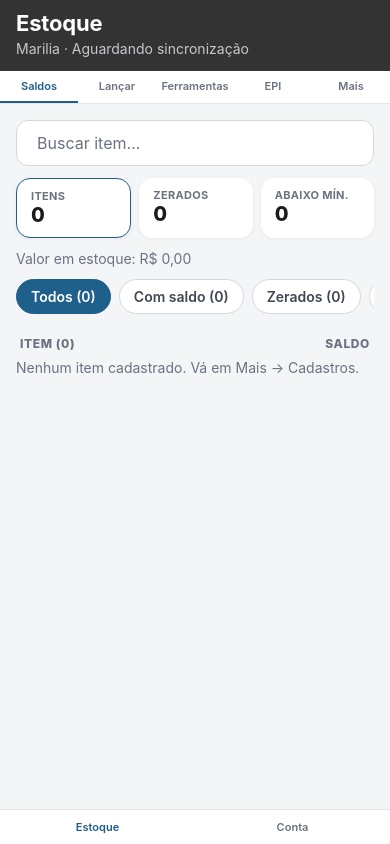
EPI (aba própria) › Lançar não tem mais a opção EPI
Click the element with test id "aba-lancar". click: point(117, 86)
box: left=99, top=79, right=135, bottom=93
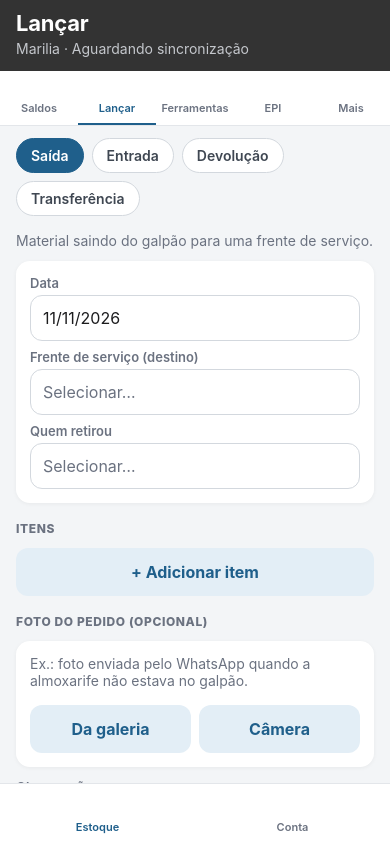
Now the element with test id "tipo-saida" is shown, box left=16, top=138, right=84, bottom=173
